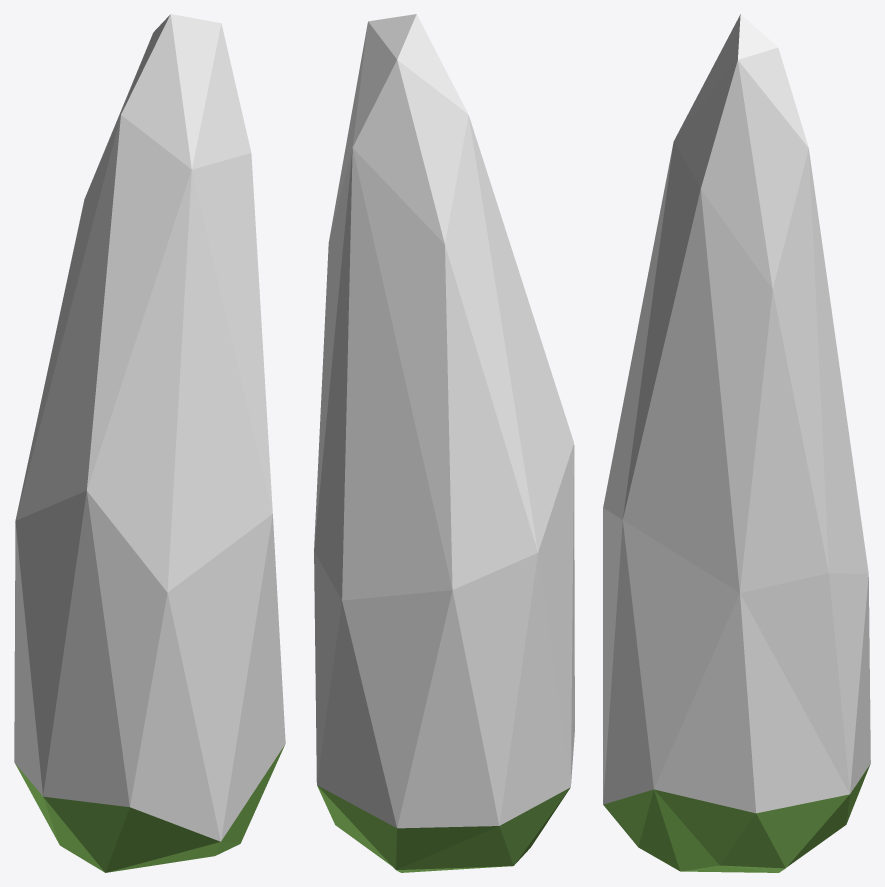
File: Thuja_BushTree_m_Snow_07.fbx
The picture shows the model from 3 angles, left to right: view 1: azimuth 30°, elevation 25°; view 2: azimuth 150°, elevation 25°; view 3: azimuth 270°, elevation 25°; orthographic projection. The views are drawn at different scales.
Visible parts, largest first — view 1: Thuja_BushTree_m_Snow_07; view 2: Thuja_BushTree_m_Snow_07; view 3: Thuja_BushTree_m_Snow_07.
Boxes of the visible parts, x1,y1,x2,y2 form: Thuja_BushTree_m_Snow_07: [14, 14, 285, 872]; Thuja_BushTree_m_Snow_07: [314, 14, 574, 872]; Thuja_BushTree_m_Snow_07: [603, 14, 870, 872].
Size of the model in its own units: 99.42 by 343 by 96.61.
